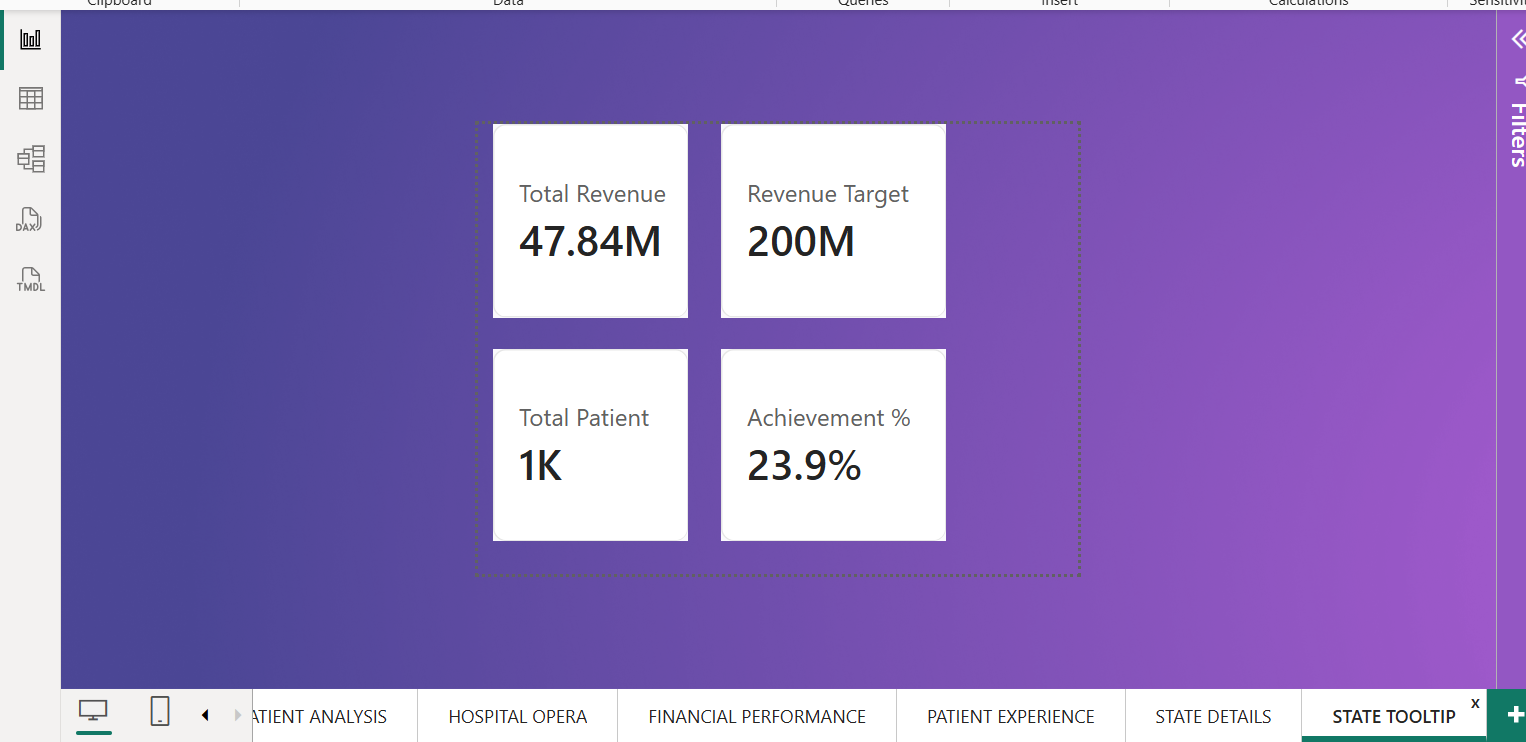

The page's visual inventory and layout, read from the dashboard file:
{"tool":"powerbi","page":{"name":"STATE TOOLTIP","canvas":[400,300],"ordinal":6},"visuals":[{"type":"cardVisual","fields":{"Data":["Date_Table.Total Revenue"]},"box":[10,0,130,129],"z":0},{"type":"cardVisual","fields":{"Data":["Patient_Visits.Total Patient"]},"box":[10,150,130,128],"z":1},{"type":"cardVisual","fields":{"Data":["Date_Table.Revenue Target"]},"box":[162,0,150,129],"z":2},{"type":"cardVisual","fields":{"Data":["Date_Table.Achievement %"]},"box":[162,150,150,128],"z":3}]}

Visuals, with their boxes on the page's 400x300 design canvas (x1, y1, x2, y2). These are canvas units, not pixel positions in the 1526x742 screenshot, which may show the page scaled, cropped or inside an application window:
cardVisual - Date_Table.Total Revenue: box=[10, 0, 140, 129]
cardVisual - Patient_Visits.Total Patient: box=[10, 150, 140, 278]
cardVisual - Date_Table.Revenue Target: box=[162, 0, 312, 129]
cardVisual - Date_Table.Achievement %: box=[162, 150, 312, 278]
